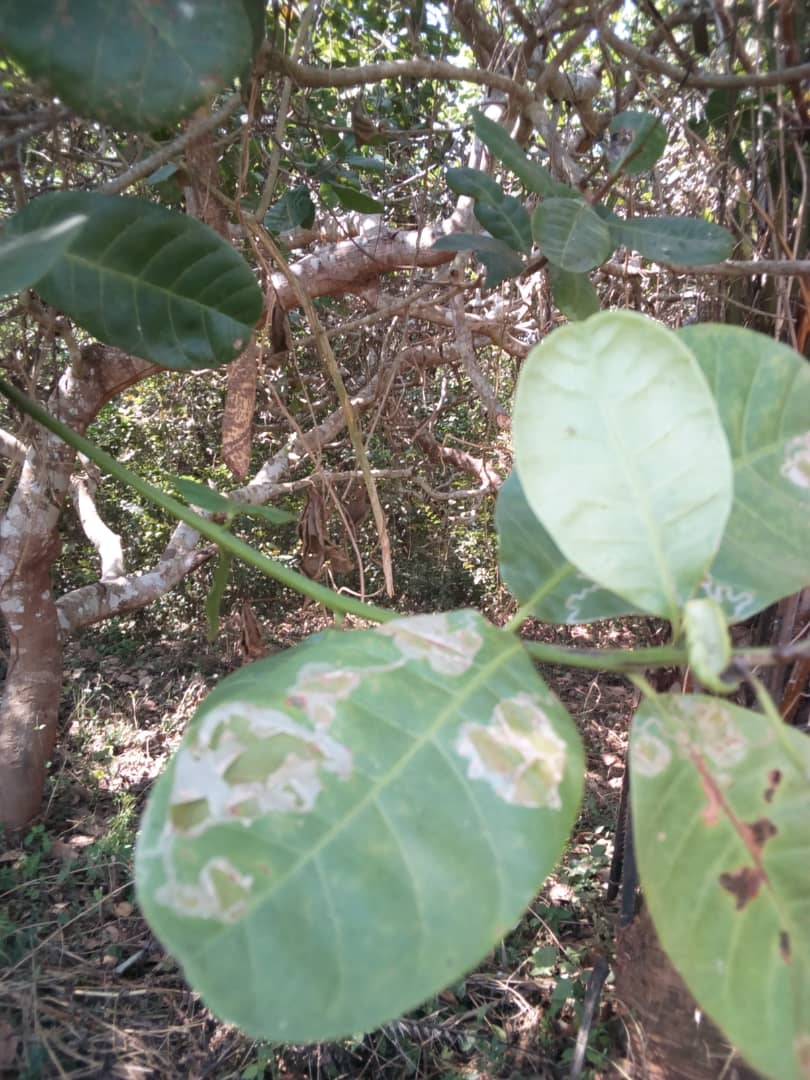Virose: (155, 615, 546, 1030)
